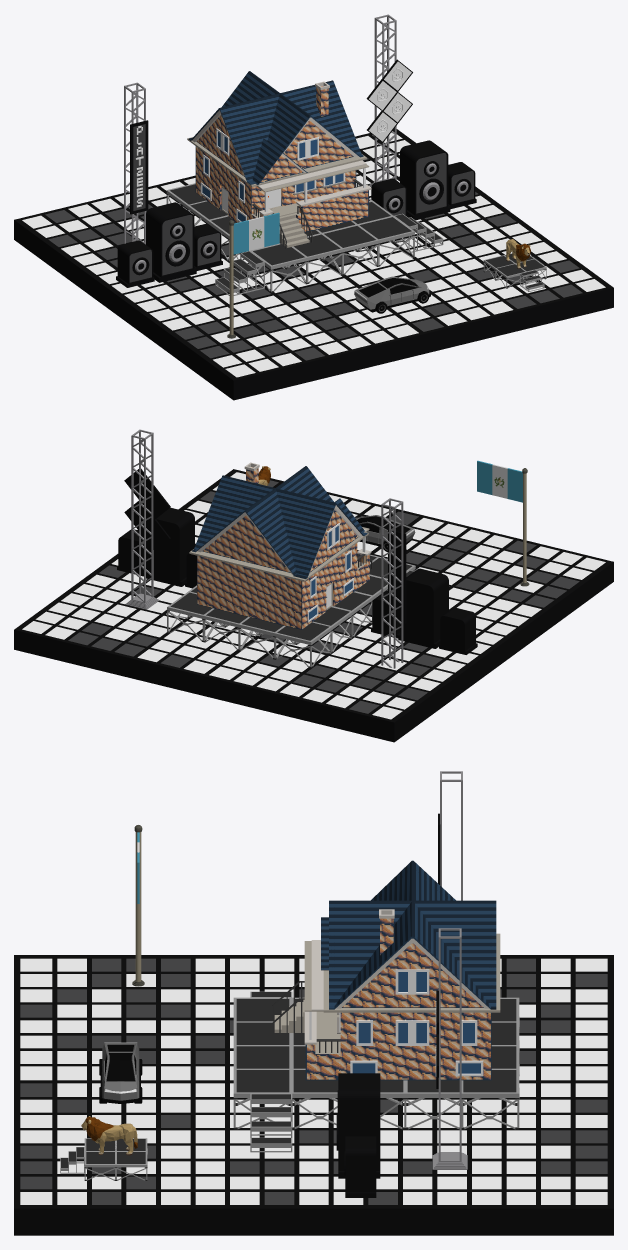
3 views of the same model, one above another, from view 1: azimuth 30°, elevation 25°; view 2: azimuth 150°, elevation 25°; view 3: azimuth 270°, elevation 25° (orthographic). The views are drawn at different scales.
Visible parts, largest first — view 1: Cube.008, Cube.430, OBJRANDOM_GUATEMALAN_FLAG, VEHICLES_CYBERTRUCK; view 2: Cube.008, Cube.430, OBJRANDOM_GUATEMALAN_FLAG, VEHICLES_CYBERTRUCK; view 3: Cube.008, Cube.430, VEHICLES_CYBERTRUCK, ANIMAL_LEON, OBJRANDOM_GUATEMALAN_FLAG.
Part boxes in pixels (box(x1,y1,x2,y2)): Cube.008: box(14, 14, 613, 400); Cube.430: box(187, 71, 371, 248); OBJRANDOM_GUATEMALAN_FLAG: box(227, 212, 279, 338); VEHICLES_CYBERTRUCK: box(354, 276, 430, 313); Cube.008: box(14, 429, 613, 742); Cube.430: box(189, 462, 372, 629); OBJRANDOM_GUATEMALAN_FLAG: box(477, 460, 529, 586); VEHICLES_CYBERTRUCK: box(355, 515, 415, 552); Cube.008: box(14, 771, 613, 1235); Cube.430: box(272, 860, 500, 1080); VEHICLES_CYBERTRUCK: box(99, 1042, 142, 1103); ANIMAL_LEON: box(81, 1116, 137, 1155); OBJRANDOM_GUATEMALAN_FLAG: box(132, 825, 144, 986).
Bounding box in the file's own units: 4000 × 1980 × 4000.
Materials: 40 (2 with a texture image).
